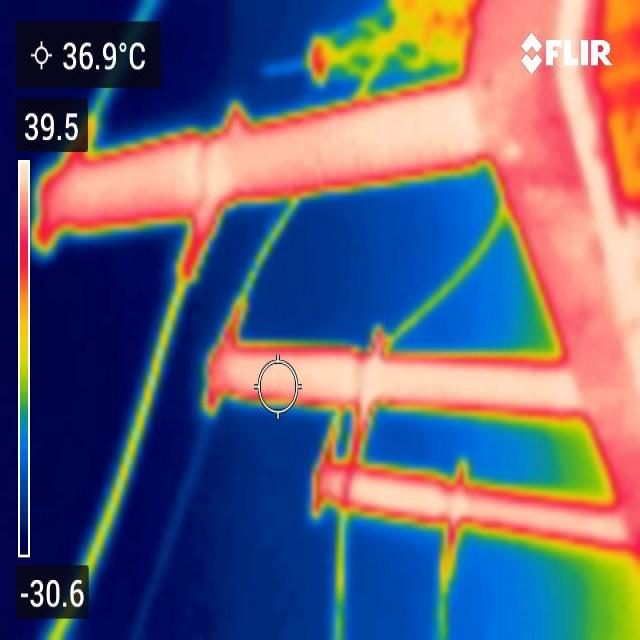Zona_Extrema: (55, 0, 639, 543)
